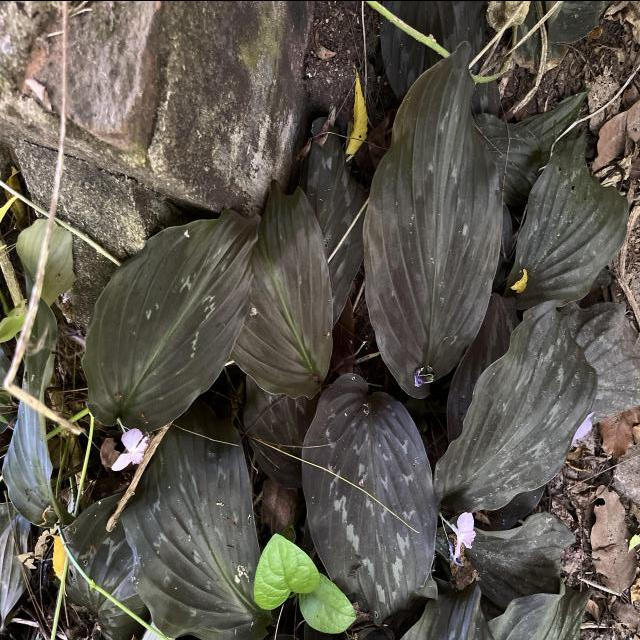Kaempferia galanga linn: (359, 36, 506, 401), (79, 204, 264, 436), (298, 370, 441, 632), (432, 296, 600, 516), (228, 175, 336, 401)
